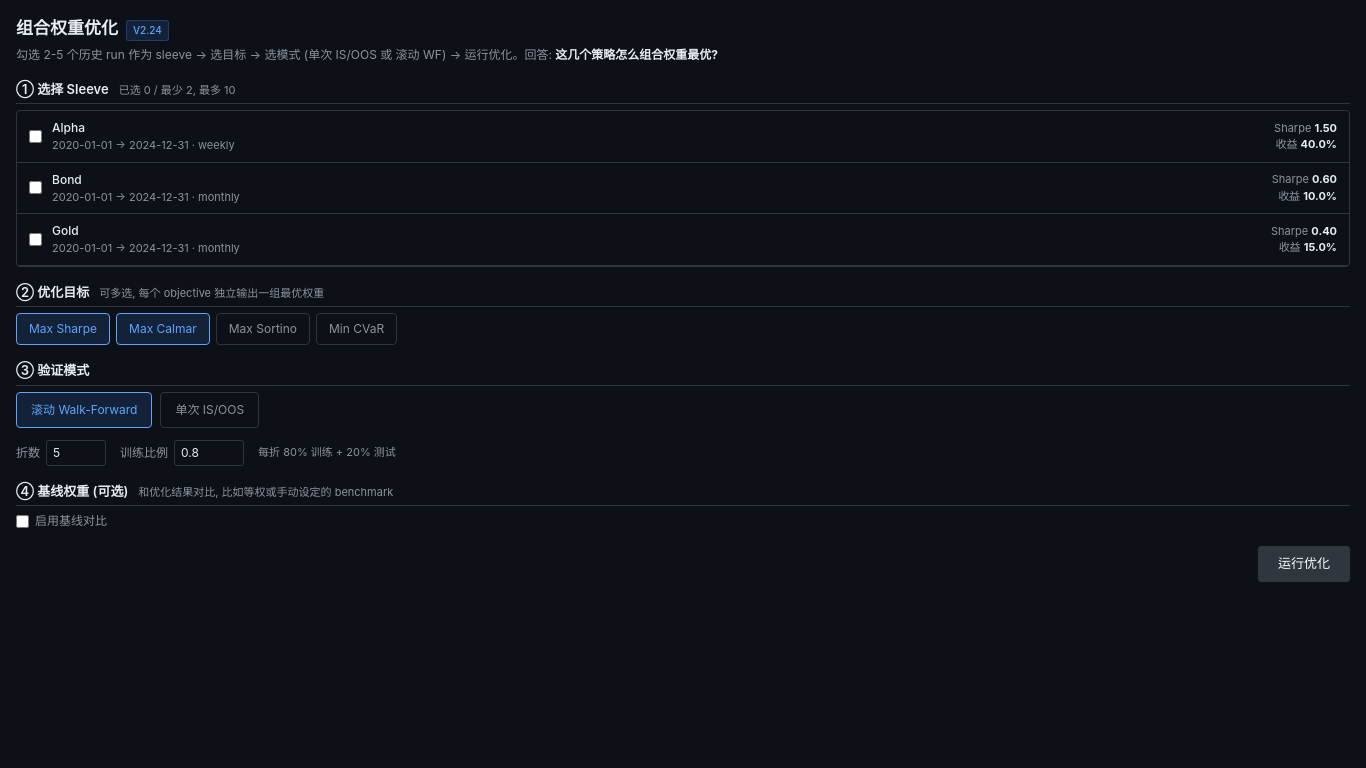
Test: SleeveOptimizationPanel - sleeve selection › clicking a sleeve marks it selected
Click the text "Alpha". click: click(68, 128)
box: top-left (52, 120), bottom-right (85, 135)
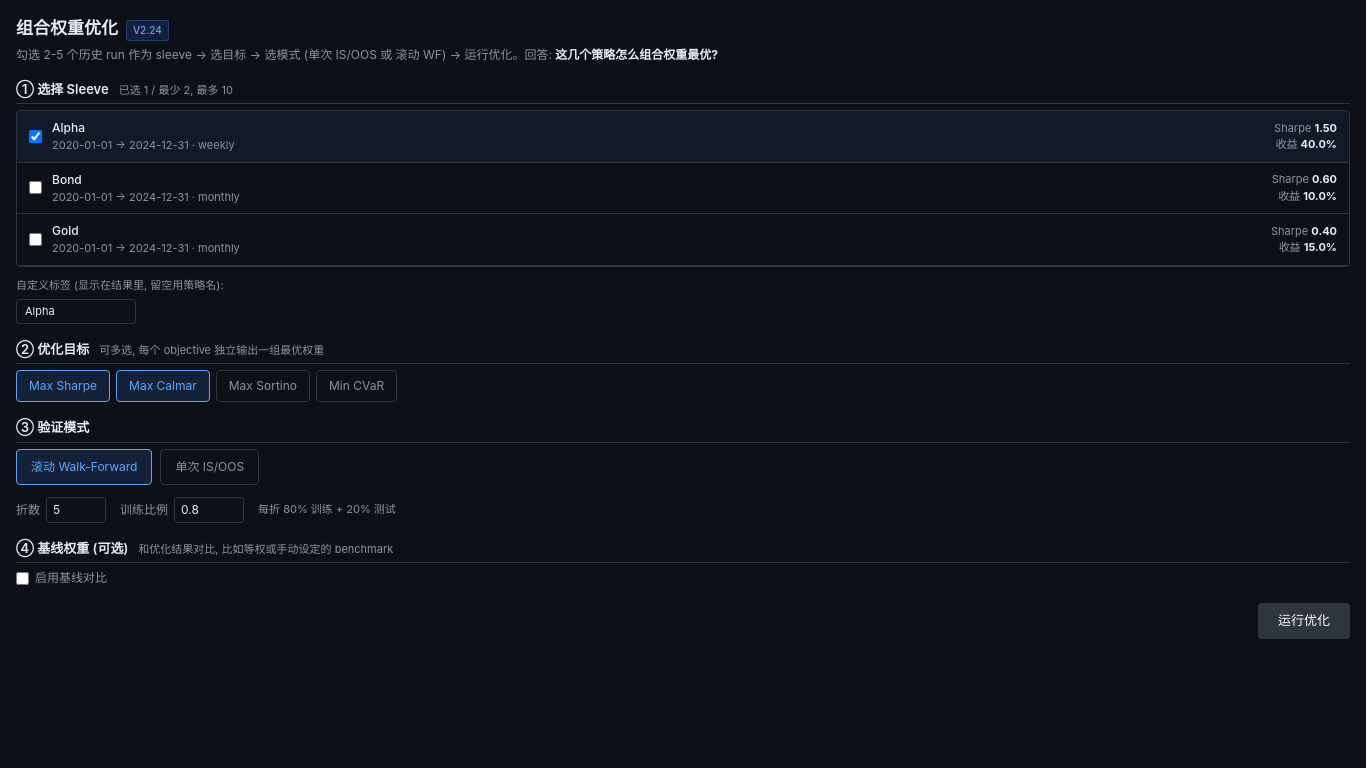
Check: the text "已选 1 / 最少 2, 最多 10" is shown, box top-left (119, 82), bottom-right (233, 98)
